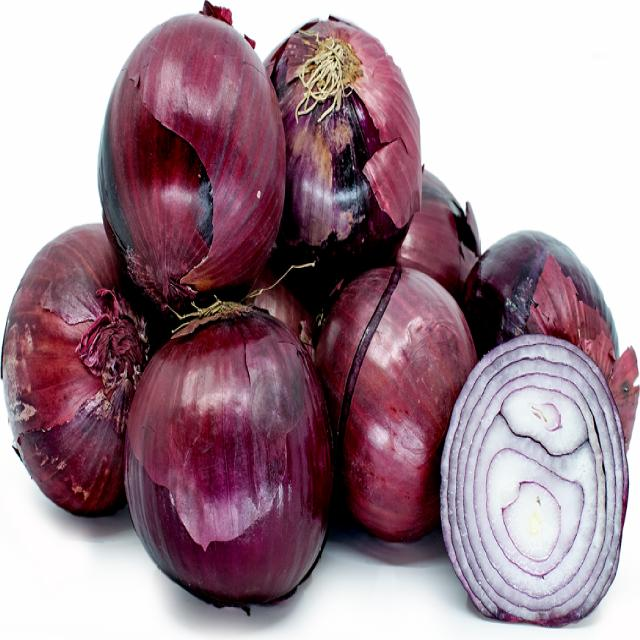onion: (125, 305, 322, 615), (94, 8, 288, 313), (439, 338, 626, 632), (304, 260, 464, 543), (0, 213, 146, 517), (260, 2, 414, 270)
